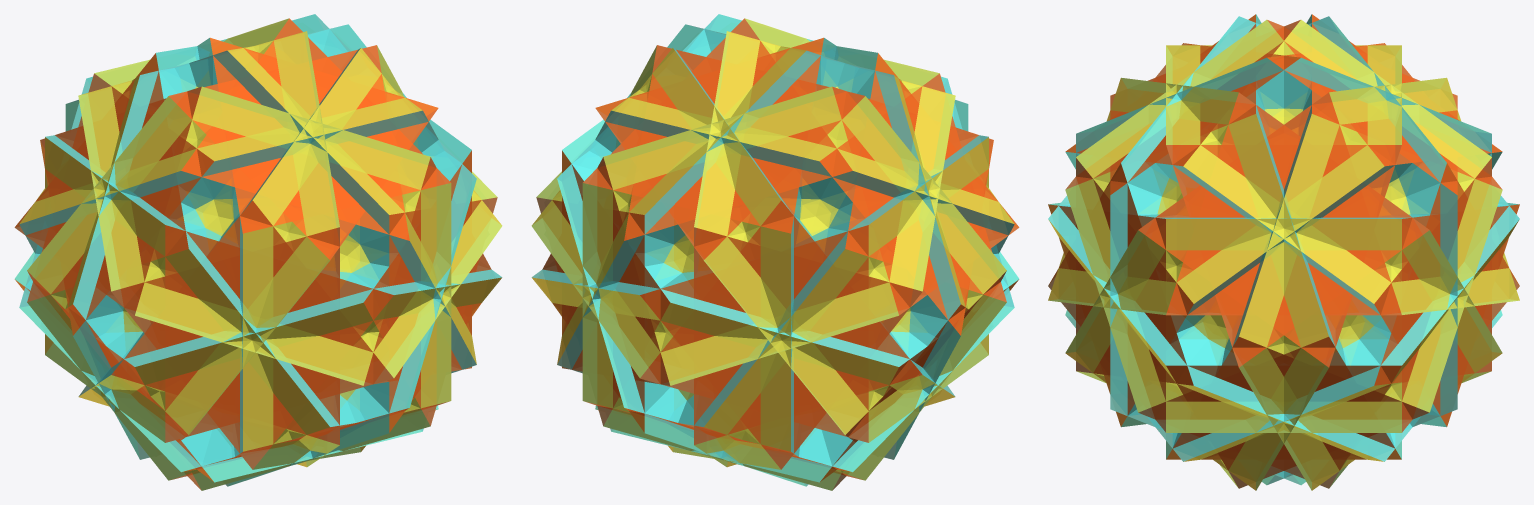
The model's file is GreatTruncatedIcosidodecahedron.obj.
3 renders of one model, left to right at view 1: azimuth 30°, elevation 25°; view 2: azimuth 150°, elevation 25°; view 3: azimuth 270°, elevation 25°, orthographic. The views are drawn at different scales.
Size of the model in its own units: 2 by 2 by 2.
